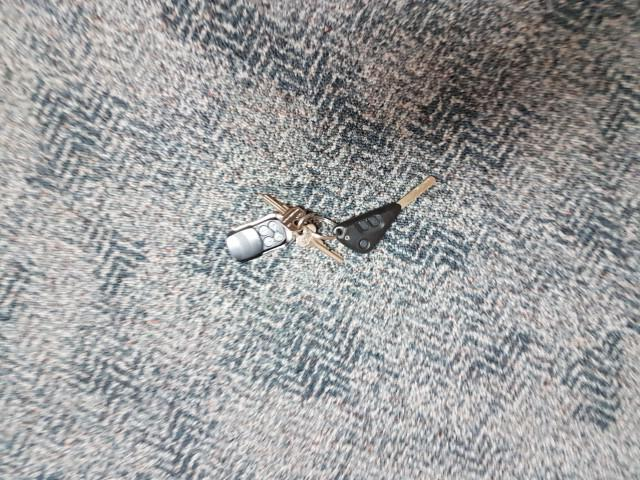key: (330, 170, 444, 260)
